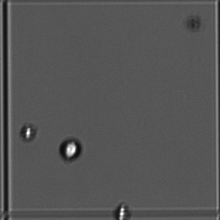Dead Cell: (182, 10, 209, 39)
Living Cell: (55, 135, 85, 164), (18, 120, 40, 145), (111, 204, 132, 218)
